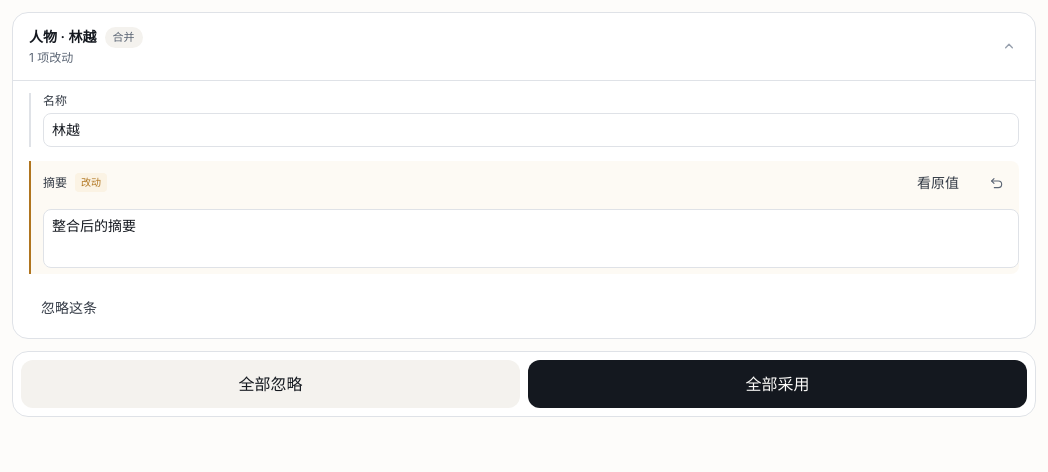
Test case: 提案预览 · 合并类差异 › 可以查看原值
expect the text "原摘要" is not shown: met
Click the button "看原值".
click(938, 182)  # box [905,164,971,200]
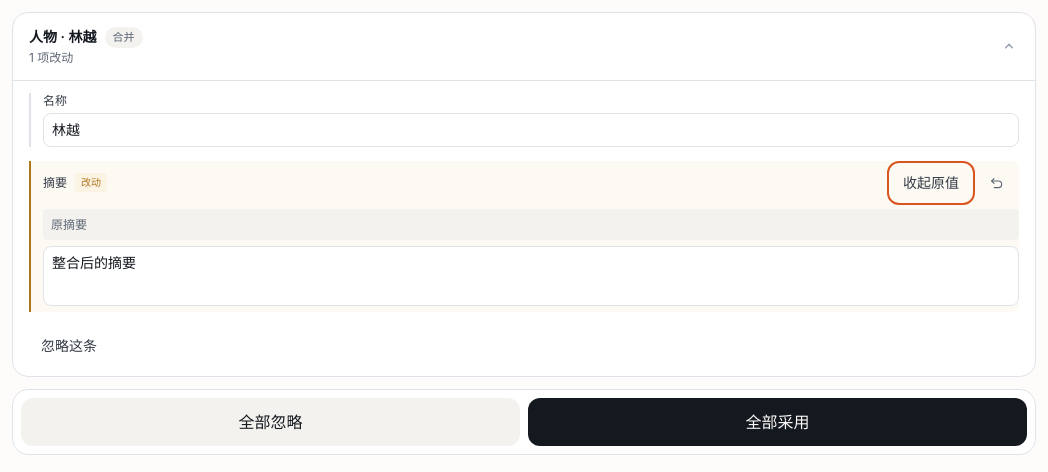
expect the text "原摘要" is shown: met, box [43,208,1019,240]
